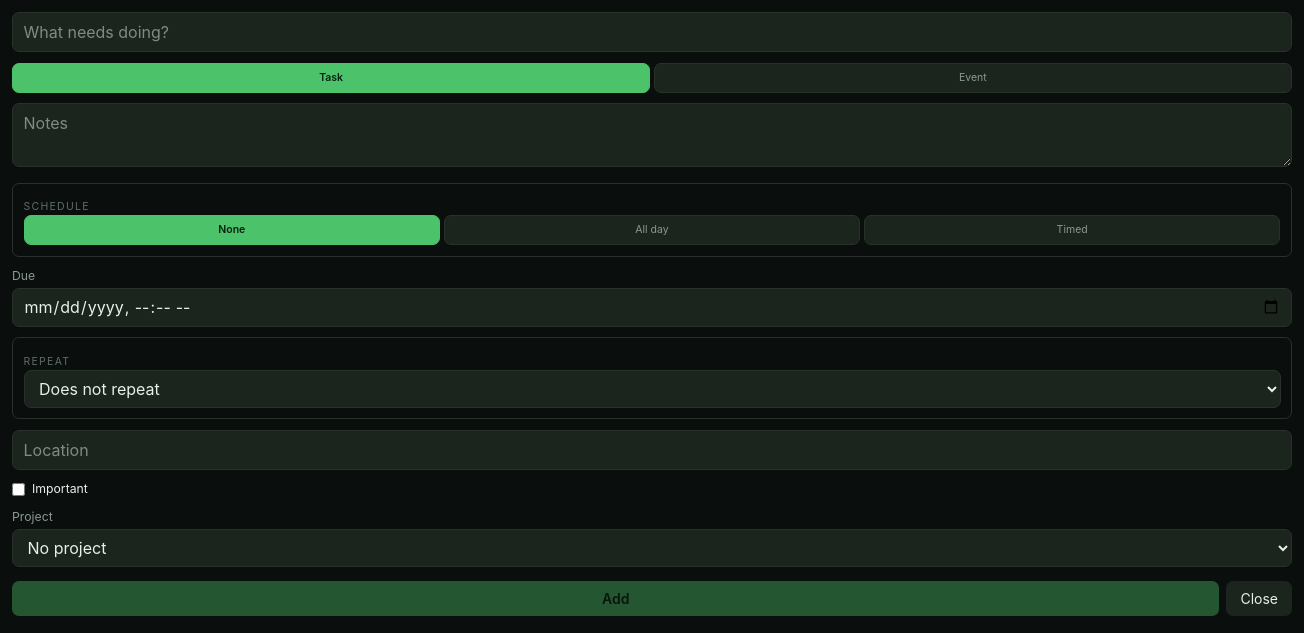
it: the validation backstop is still there › has nothing to say about an item that does not repeat
The image size is (1304, 633).
Type "Renew the domain" into the field with placeholder "What needs doing?" at (652, 32), box left=12, top=12, right=1292, bottom=52
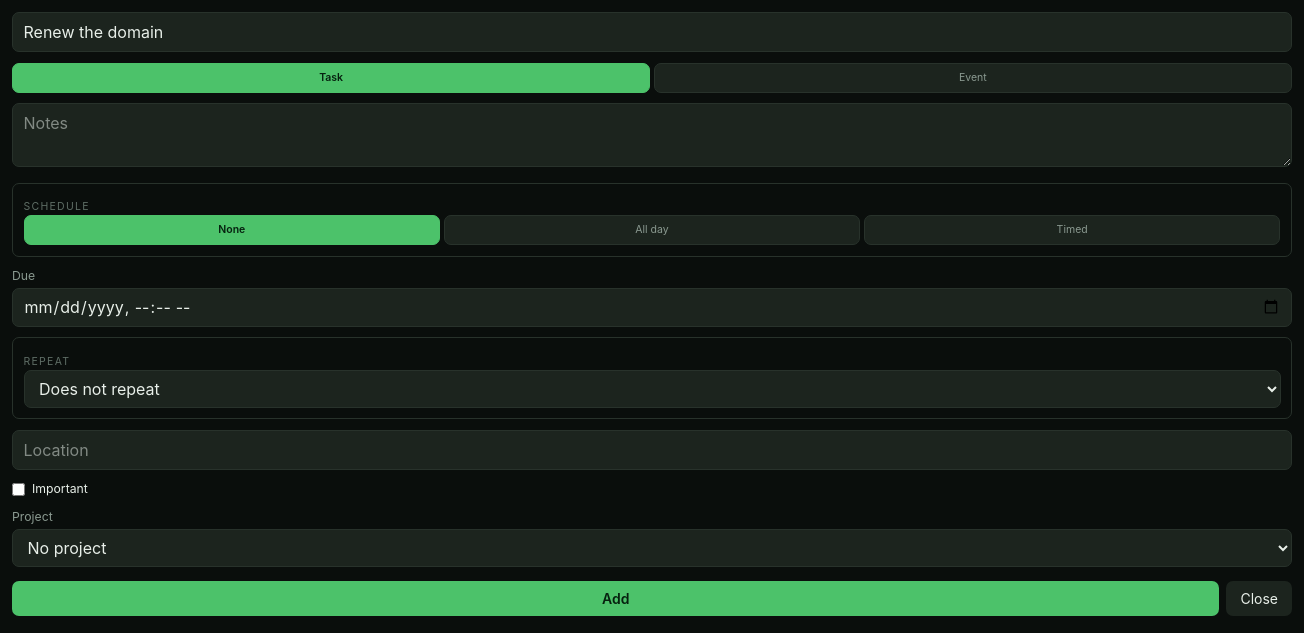
Expected: the button "Add" is enabled, left=12, top=581, right=1219, bottom=616
